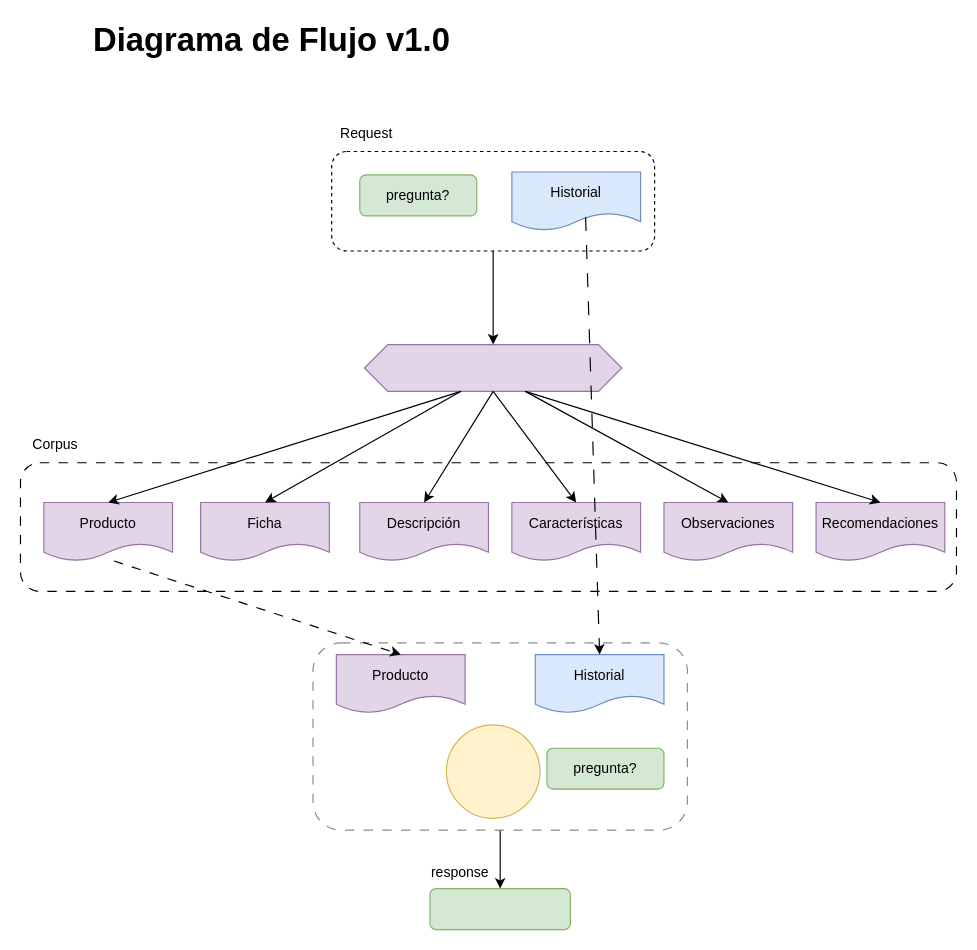
Image size: 977x950. Some labels were removed from this diagram. The centre of each missing label's shape, as x and y in pixels:
"Respuesta" goes at [499,908].
"Selector de contexto" goes at [492,367].
"SLM" goes at [492,771].
